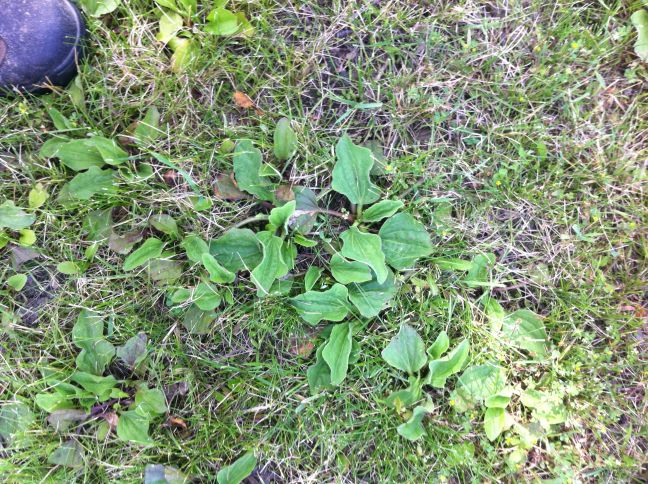weed1: (126, 209, 313, 319), (34, 304, 172, 451), (323, 134, 438, 291), (371, 324, 511, 443), (46, 97, 175, 214), (130, 1, 257, 67)
